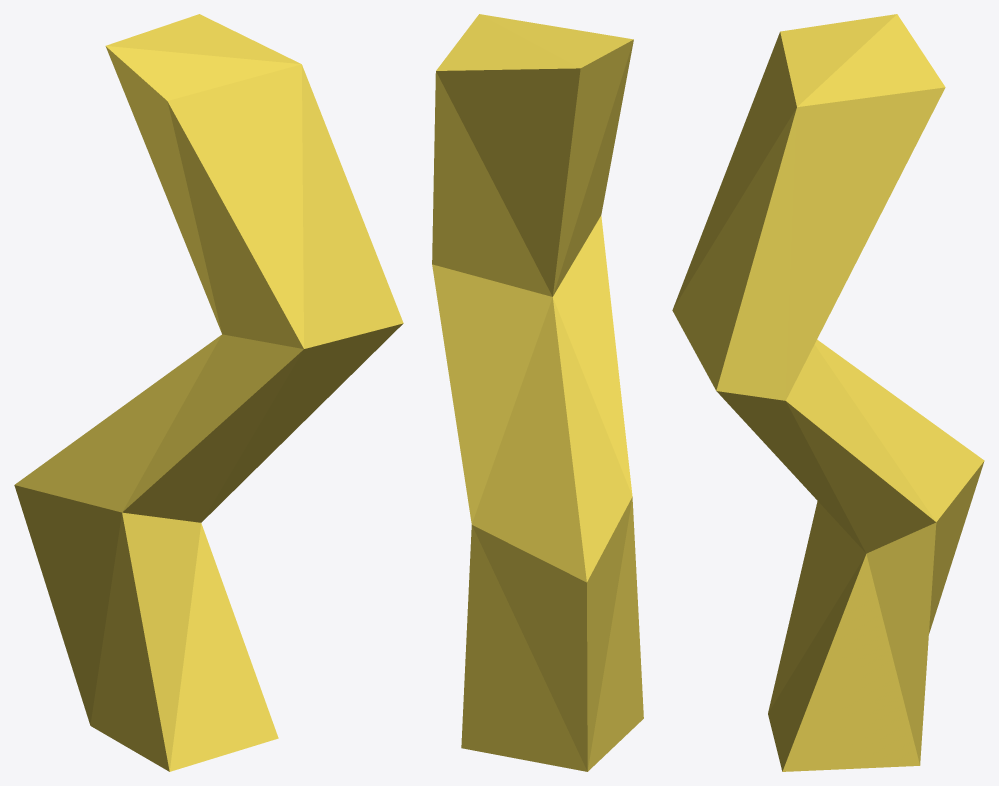
File: stem1.obj
3 views of the same model, side by side, from view 1: azimuth 30°, elevation 25°; view 2: azimuth 150°, elevation 25°; view 3: azimuth 270°, elevation 25° (orthographic). The views are drawn at different scales.
Visible parts, largest first — view 1: Stem2; view 2: Stem2; view 3: Stem2.
Part boxes in pixels (x1,y1,x2,y2): Stem2: (14, 14, 403, 771); Stem2: (432, 14, 643, 771); Stem2: (672, 14, 984, 771).
Size of the model in its own units: 0.1107 by 0.2782 by 0.1126.
